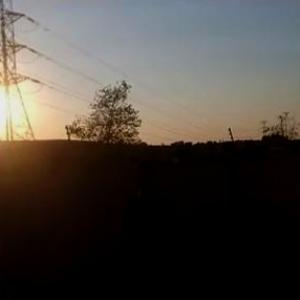follow: (116, 152, 188, 299)
